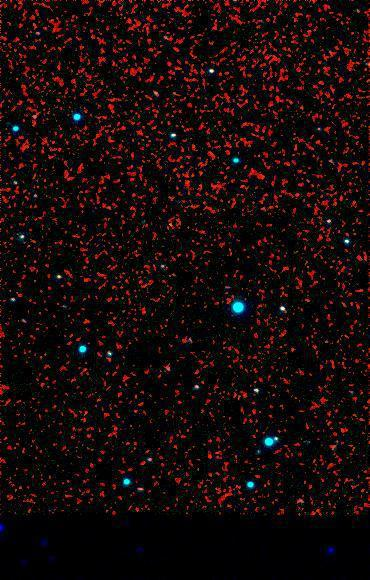star: (156, 208, 186, 238)
